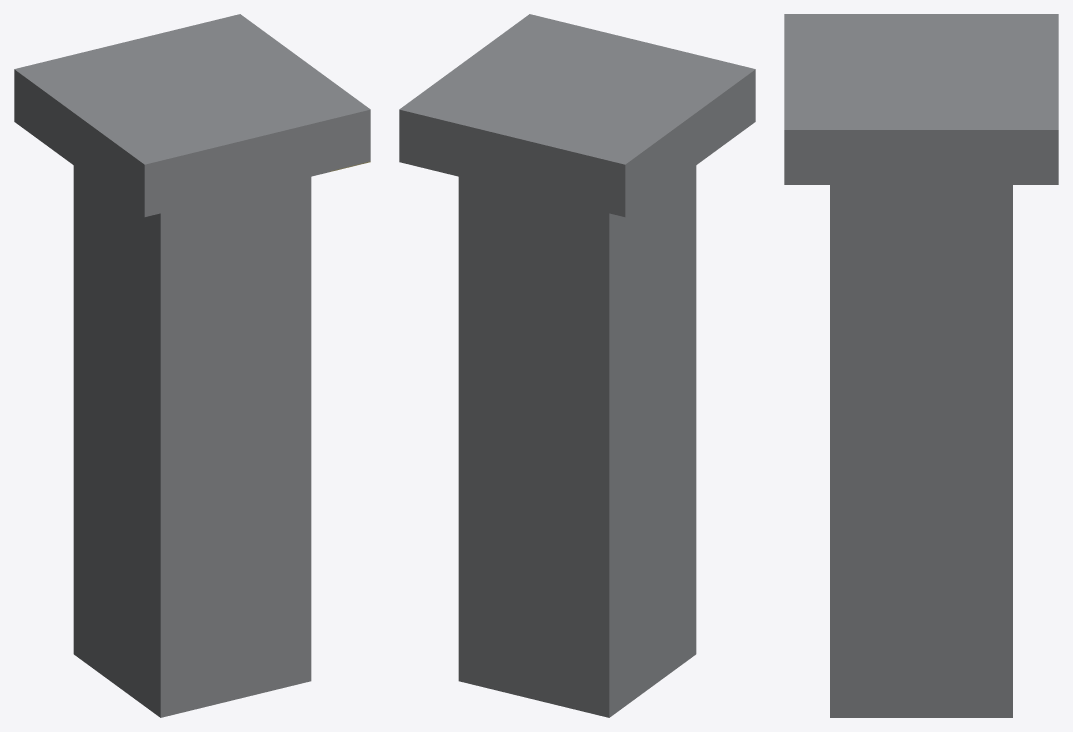
The model's file is Sostegno_barra.fbx.
3 renders of one model, left to right at view 1: azimuth 30°, elevation 25°; view 2: azimuth 150°, elevation 25°; view 3: azimuth 270°, elevation 25°, orthographic. The views are drawn at different scales.
Visible parts, largest first — view 1: Sostegno_barra; view 2: Sostegno_barra; view 3: Sostegno_barra.
Boxes of the visible parts, x1,y1,x2,y2 form: Sostegno_barra: (14,14,370,717); Sostegno_barra: (399,14,755,717); Sostegno_barra: (784,14,1058,717).
Size of the model in its own units: 45 by 110 by 45.
